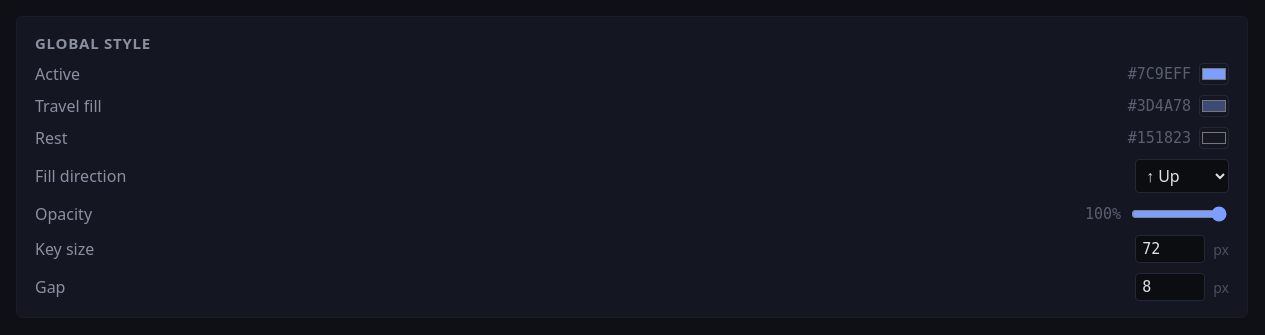
Test case: StylePanel - a size the renderer can survive › refuses a key size of zero
Replace the text in the number field named "unit" with "0" at (1170, 249), box x1=1135 y1=235 x2=1205 y2=263
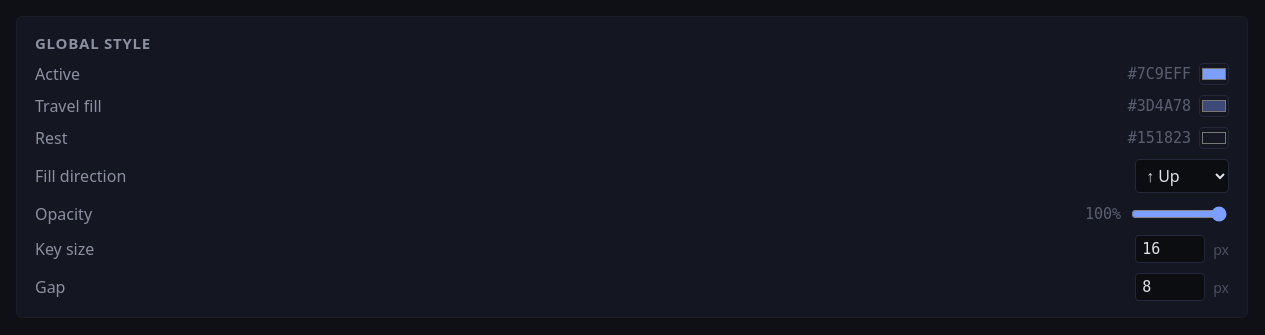
Result: the number field named "unit" holds "16" at x1=1135 y1=235 x2=1205 y2=263
